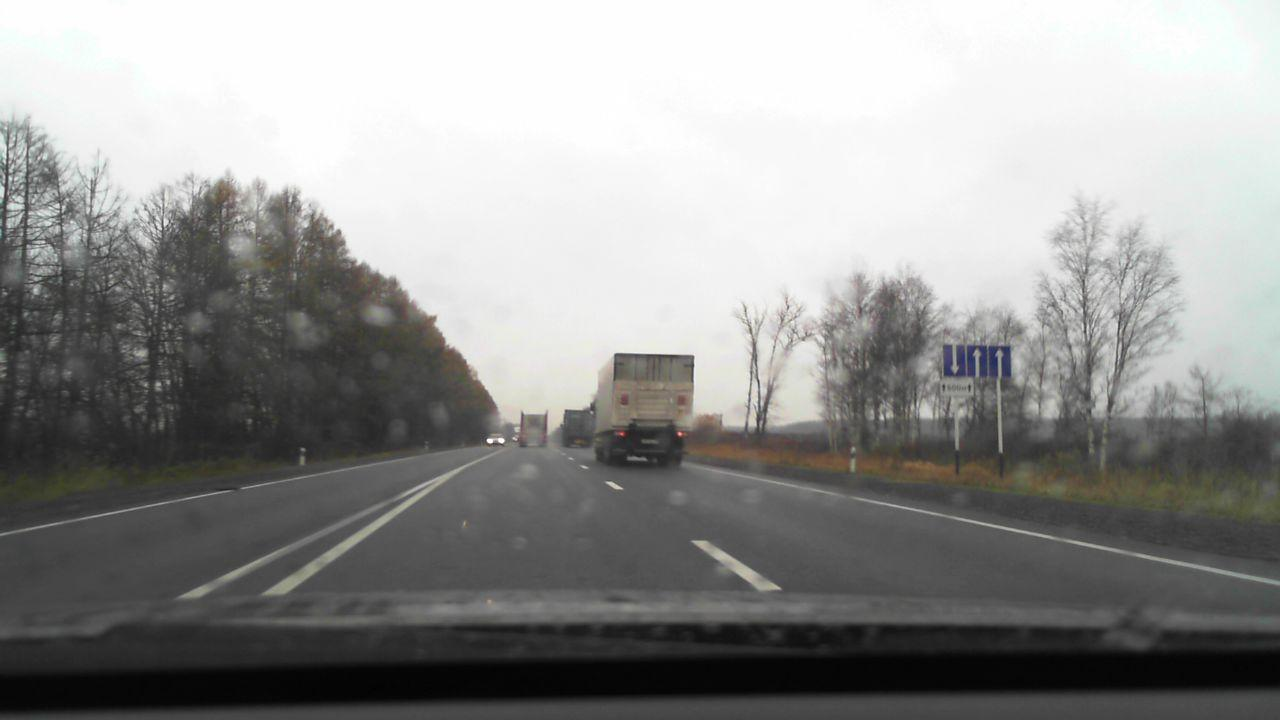5_15_7: (943, 339, 1011, 378)
8_2_1: (940, 379, 974, 396)
